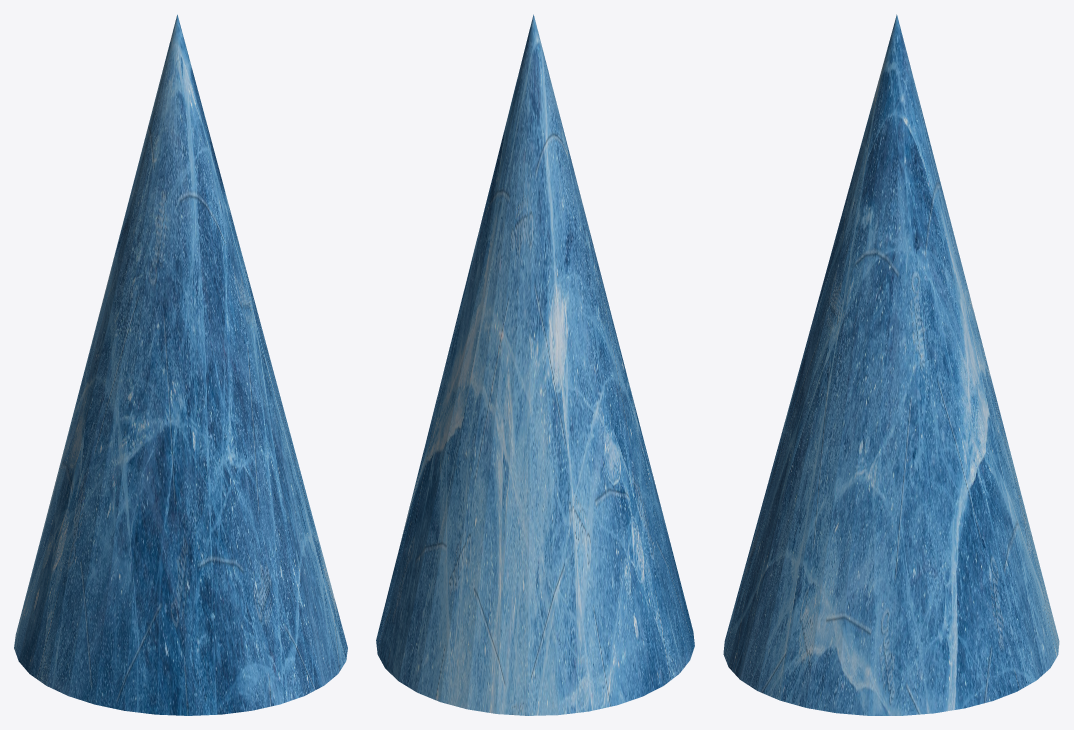
File: Pico_M.obj
3 views of the same model, side by side, from view 1: azimuth 30°, elevation 25°; view 2: azimuth 150°, elevation 25°; view 3: azimuth 270°, elevation 25° (orthographic).
Visible parts, largest first — view 1: Cono.012; view 2: Cono.012; view 3: Cono.012.
Boxes of the visible parts, x1=… form: Cono.012: x1=14, y1=14, x2=347, y2=715; Cono.012: x1=376, y1=14, x2=694, y2=715; Cono.012: x1=723, y1=14, x2=1059, y2=715.
Size of the model in its own units: 1.59 by 3.45 by 1.66.
